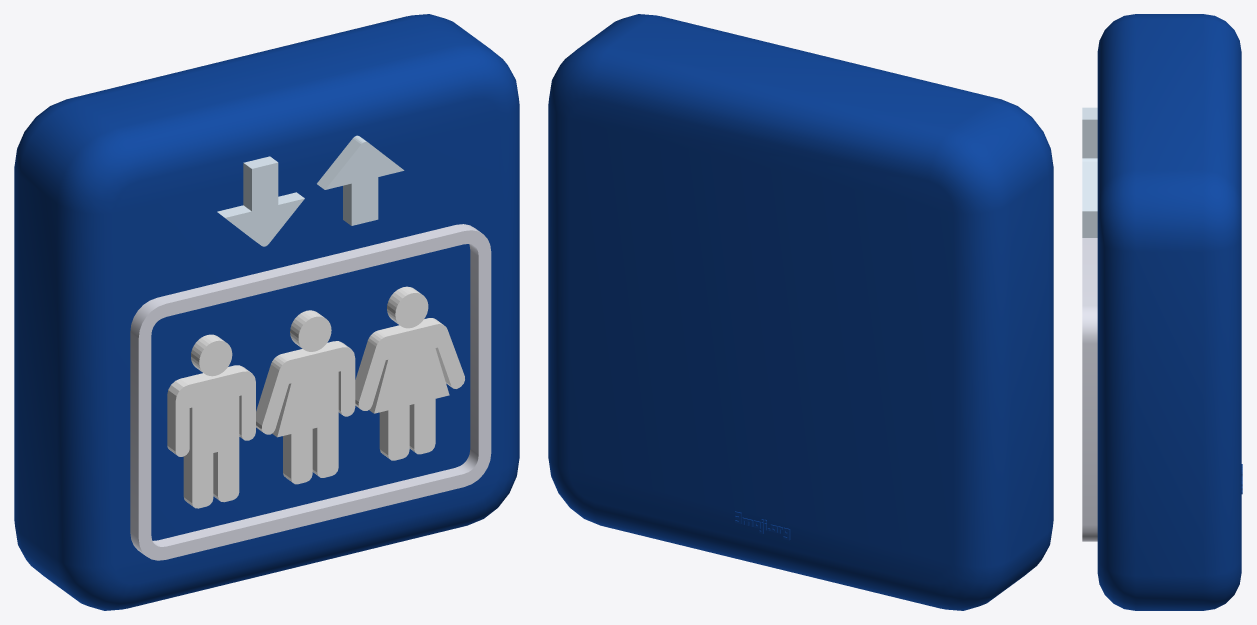
File: elevator.fbx
3 renders of one model, left to right at view 1: azimuth 30°, elevation 25°; view 2: azimuth 150°, elevation 25°; view 3: azimuth 270°, elevation 25°, orthographic. The views are drawn at different scales.
Parts seen in each view (by area): view 1: Cube.557; view 2: Cube.557; view 3: Cube.557.
Boxes of the visible parts, x1,y1,x2,y2 form: Cube.557: (14, 14, 519, 610); Cube.557: (548, 14, 1053, 610); Cube.557: (1082, 14, 1242, 610).
Size of the model in its own units: 220 by 220 by 73.55.
1 material, 1 textured.
